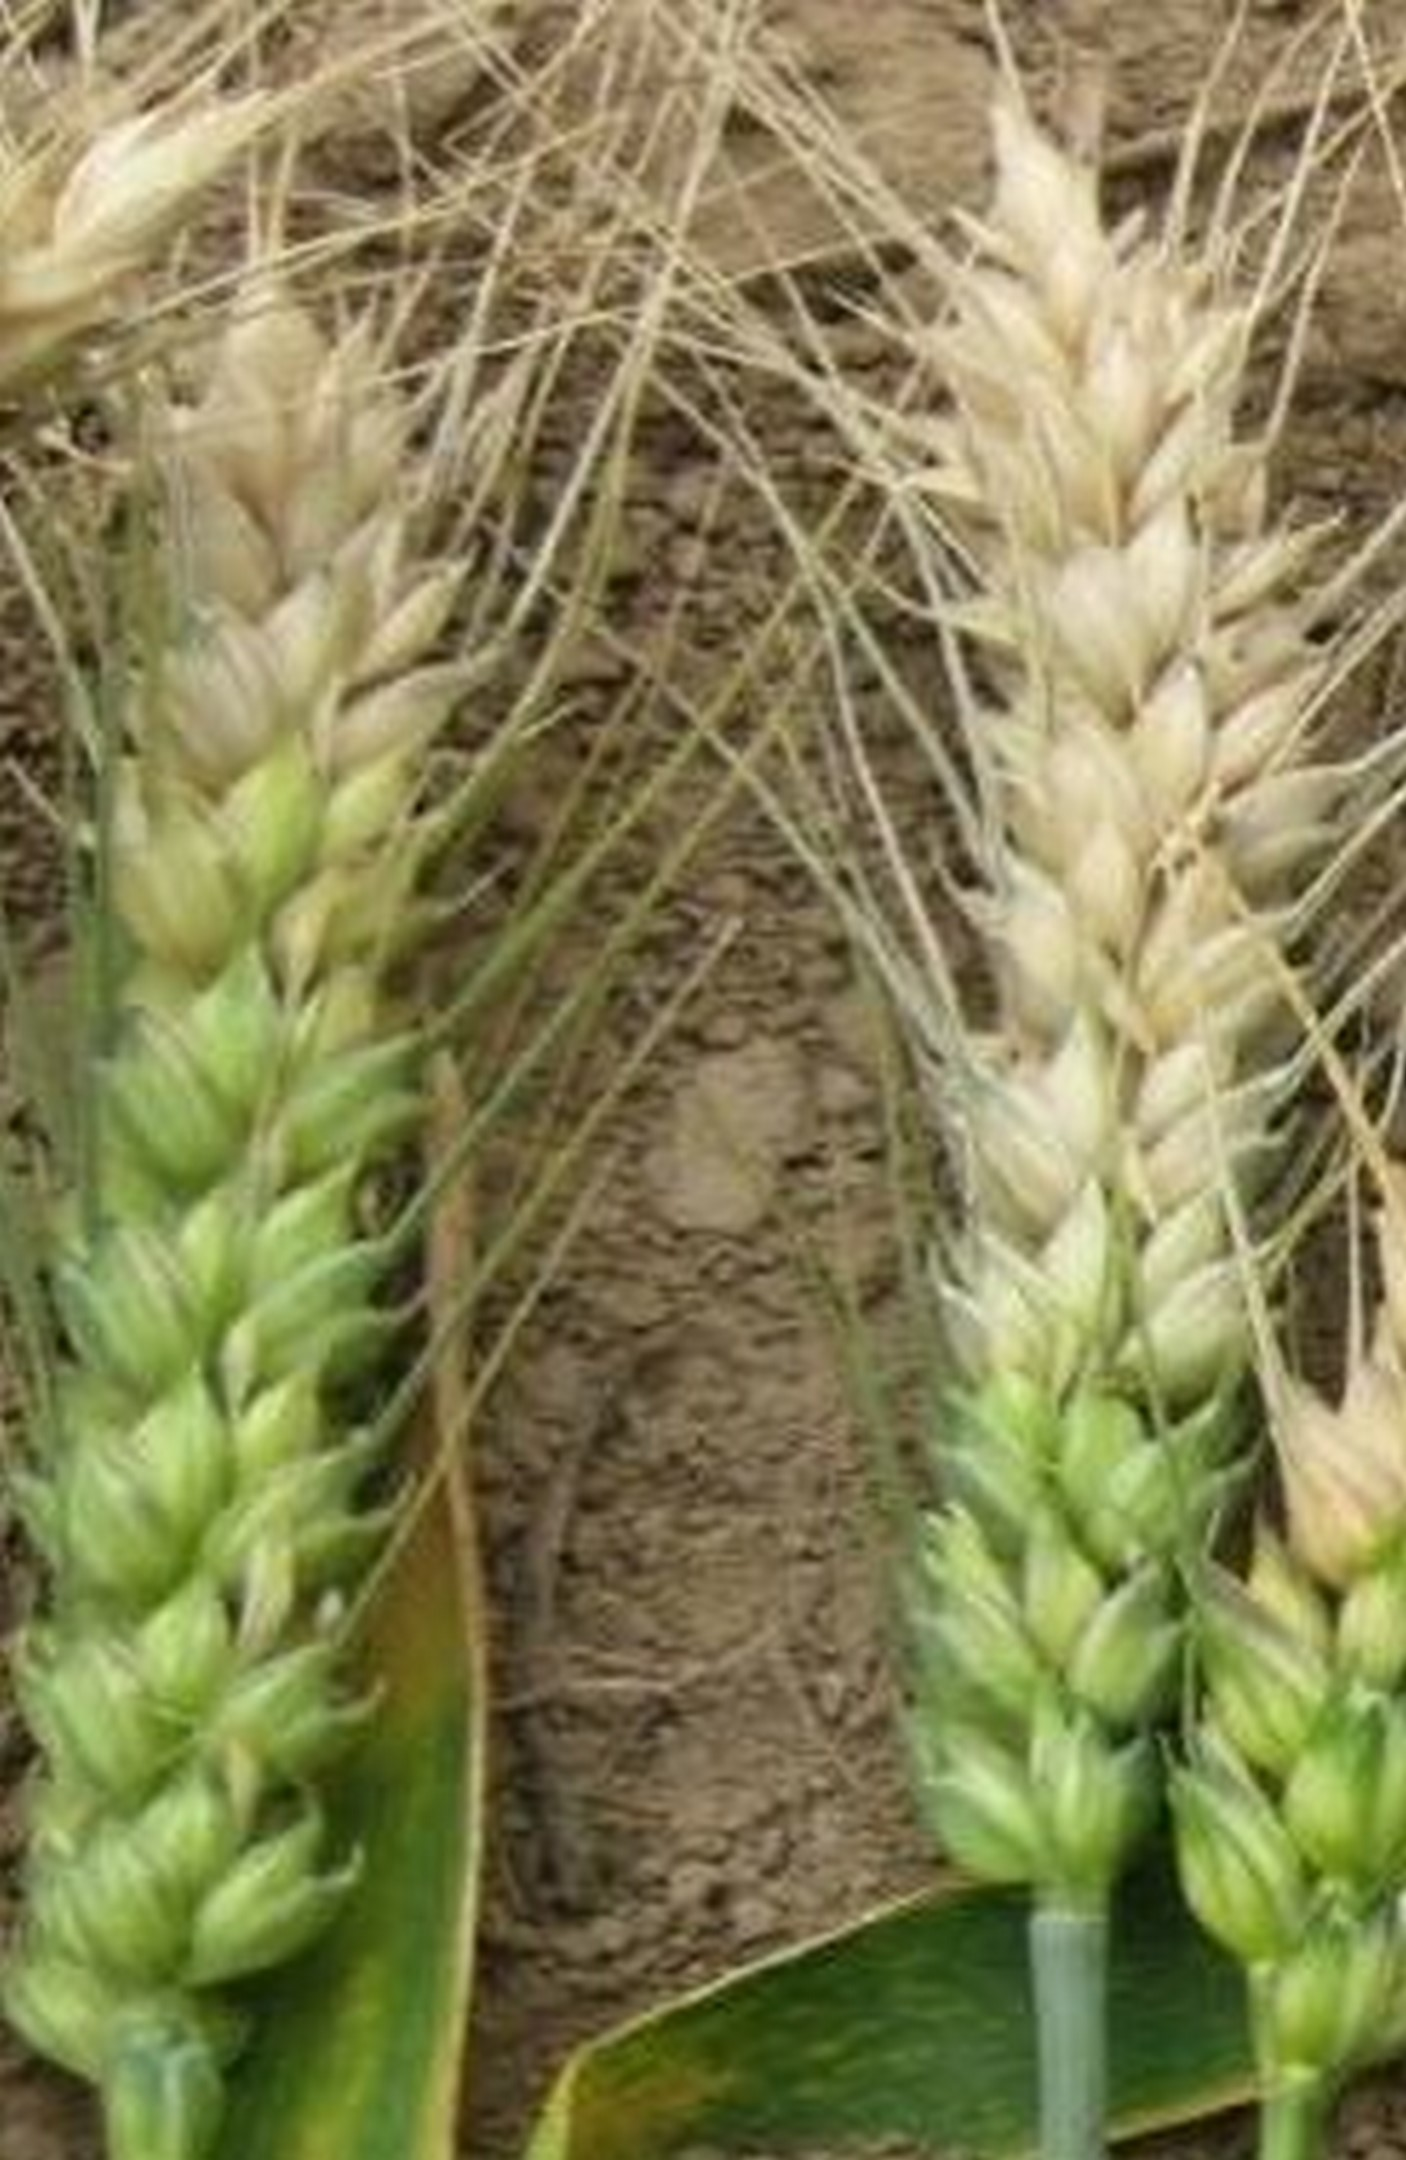Wheat scab: (756, 195, 1313, 1963), (2, 316, 513, 2058)
